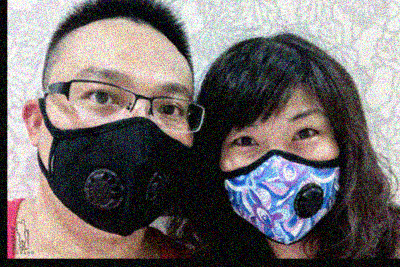with_mask: (44, 65, 195, 238), (217, 105, 343, 246)
